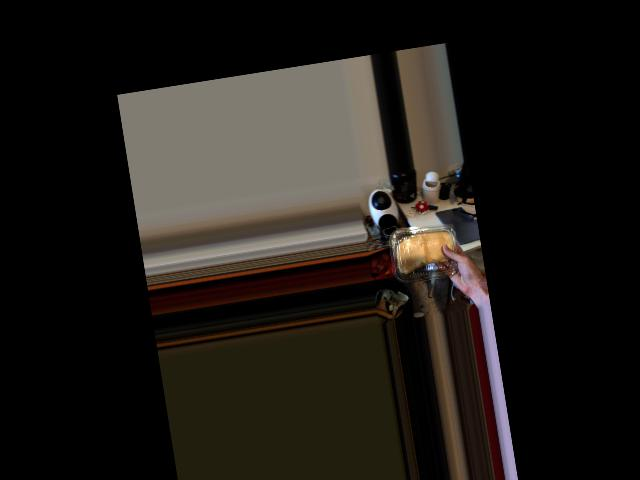cheese: (391, 215, 460, 287)
